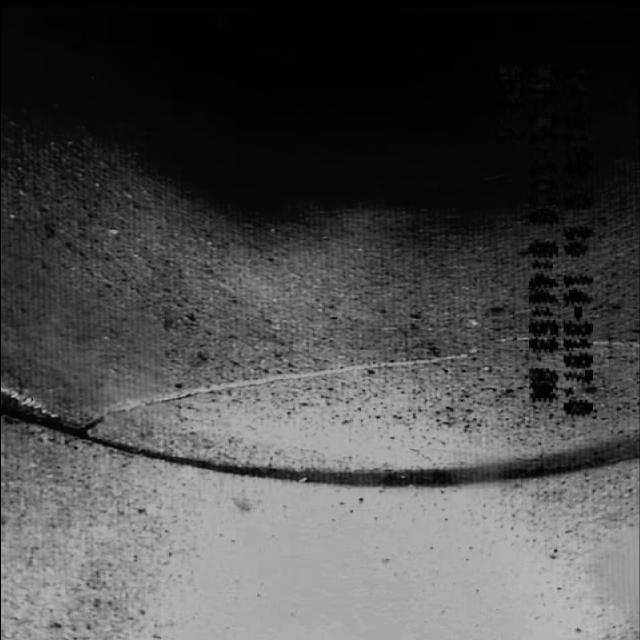Crack: (76, 342, 467, 421)
